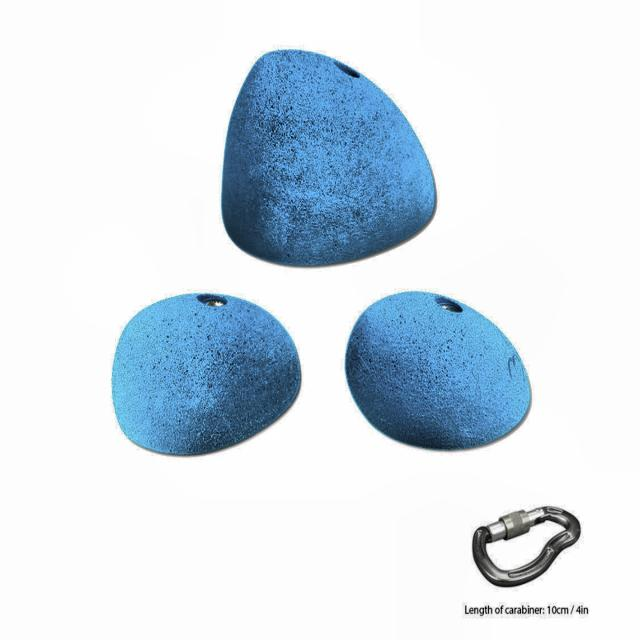Hold: (218, 50, 451, 269), (344, 290, 538, 450), (111, 293, 302, 455)
